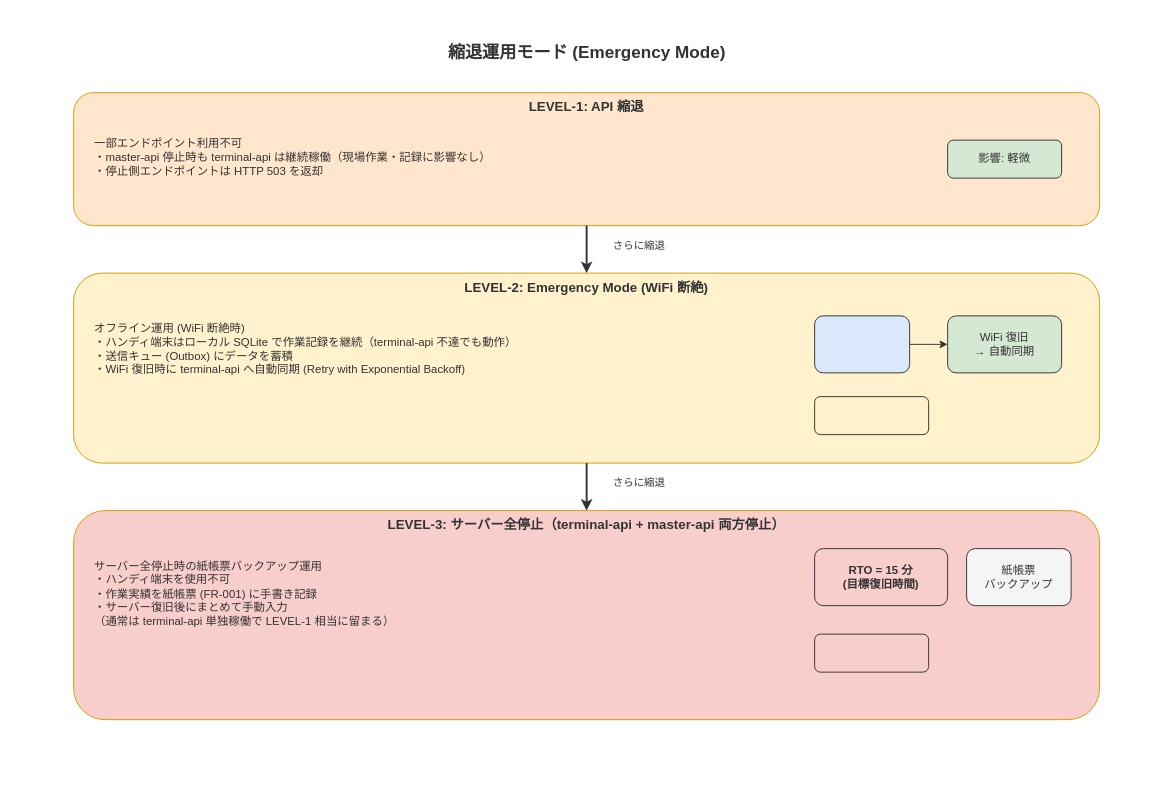
The diagram is 1172 pixels wide and 792 high, and some of its shapes have lost their labels. Here are the shapes that lost their labels. From the top down, the centre of each, then its label:
At pixel 862 344: "Outbox 蓄積中".
At pixel 871 415: "影響: 中程度".
At pixel 871 652: "影響: 重大".
